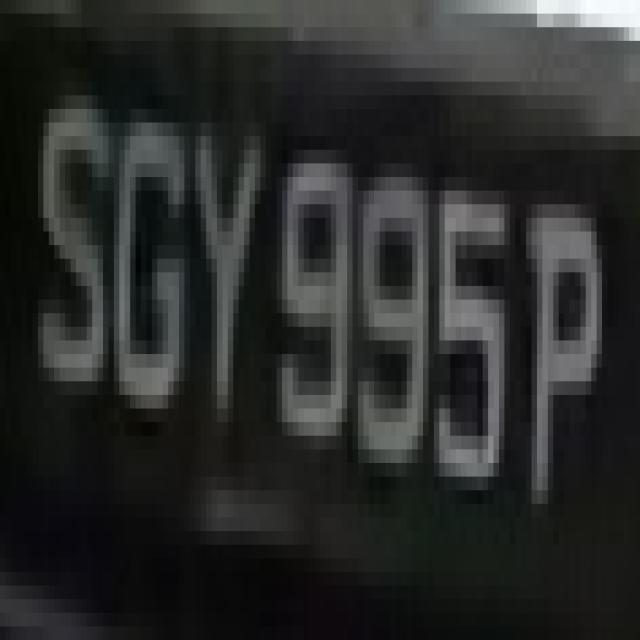5: (412, 150, 515, 517)
9: (347, 109, 434, 490), (271, 123, 358, 490)
G: (98, 54, 190, 463)
P: (521, 190, 613, 544)
S: (32, 27, 114, 436)
Y: (179, 82, 271, 395)
